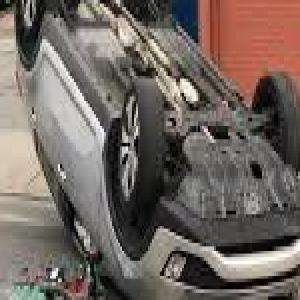serious: (10, 0, 300, 300)
